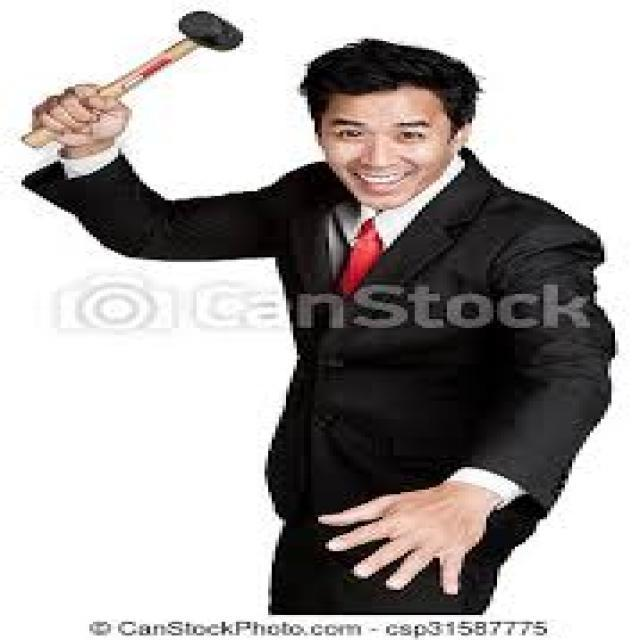hammer: (16, 4, 252, 152)
